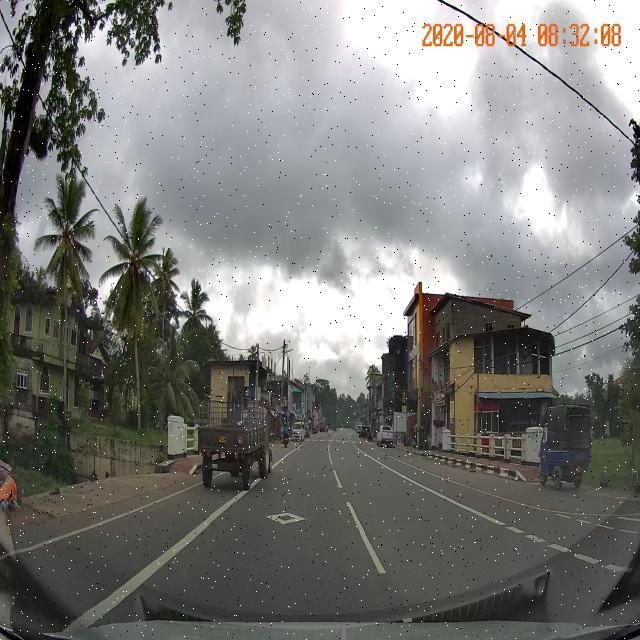diamond: (209, 502, 366, 533)
